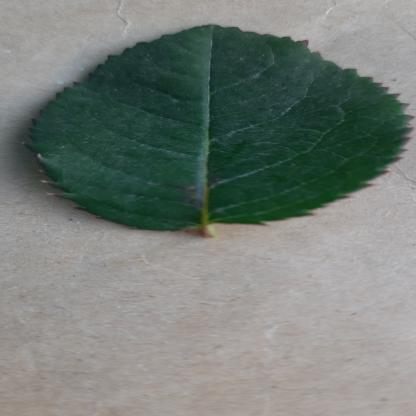normal: (19, 25, 415, 232)
